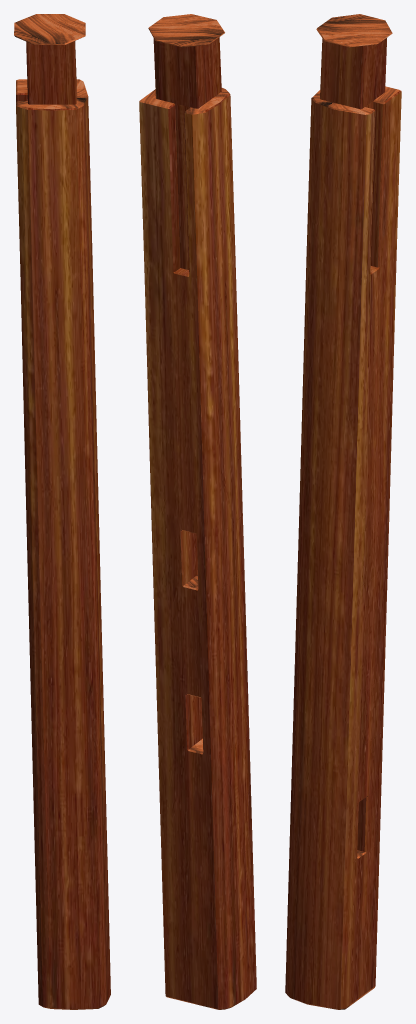
File: GMY_J_houtui_02.FBX
3 views of the same model, side by side, from view 1: azimuth 90°, elevation 25°; view 2: azimuth 150°, elevation 25°; view 3: azimuth 330°, elevation 25° (orthographic).
Visible parts, largest first — view 1: GMY_J_houtui_02; view 2: GMY_J_houtui_02; view 3: GMY_J_houtui_02.
Boxes of the visible parts, <box> form: GMY_J_houtui_02: <box>14,14,110,1009</box>; GMY_J_houtui_02: <box>139,14,256,1009</box>; GMY_J_houtui_02: <box>285,14,401,1009</box>.
Size of the model in its own units: 4.48 by 52.54 by 4.82.
